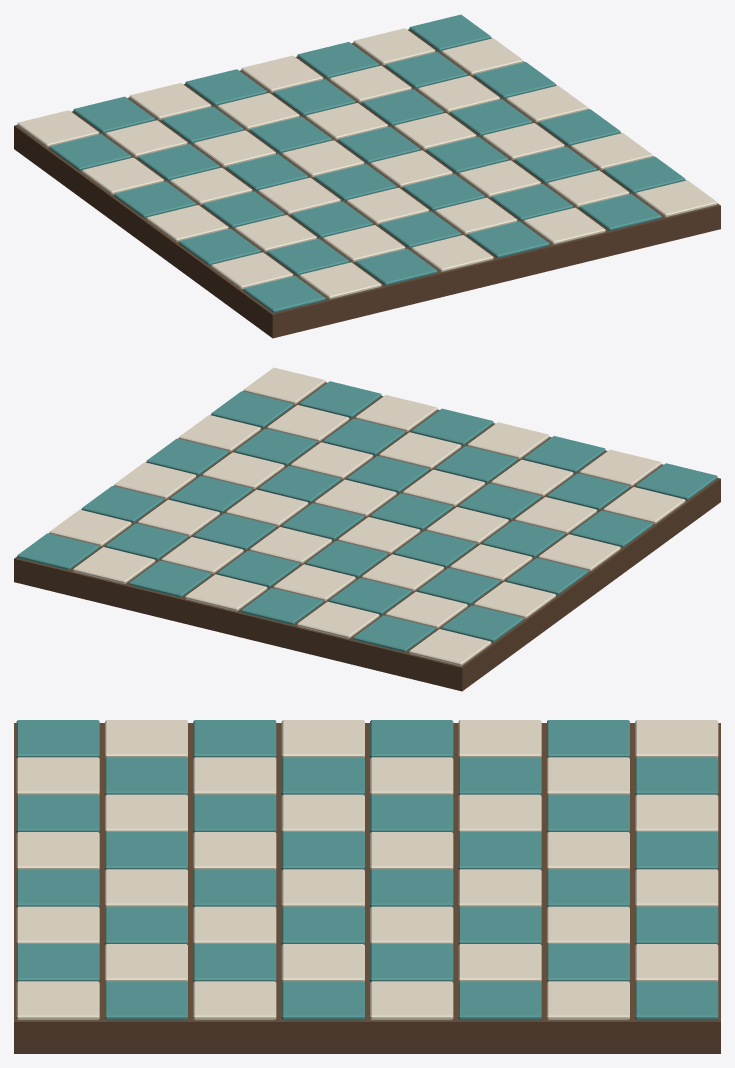
Rendered from floor_hm_tile.glb.
3 renders of one model, top to bottom at view 1: azimuth 30°, elevation 25°; view 2: azimuth 150°, elevation 25°; view 3: azimuth 270°, elevation 25°, orthographic. The views are drawn at different scales.
Parts seen in each view (by area): view 1: floor_hm_tile; view 2: floor_hm_tile; view 3: floor_hm_tile.
Boxes of the visible parts, bbox=[...] form: floor_hm_tile: bbox=[14, 14, 720, 338]; floor_hm_tile: bbox=[14, 367, 720, 691]; floor_hm_tile: bbox=[14, 720, 720, 1053].
Size of the model in its own units: 4 by 0.23 by 4.
